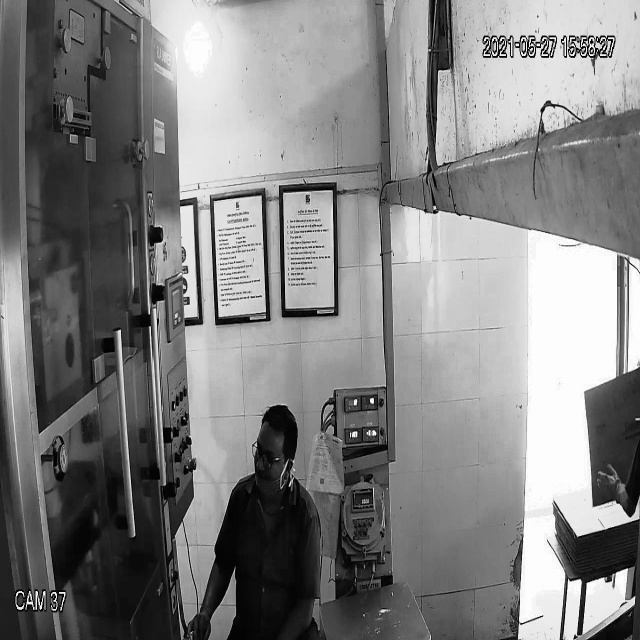Gafas: (250, 434, 293, 474)
